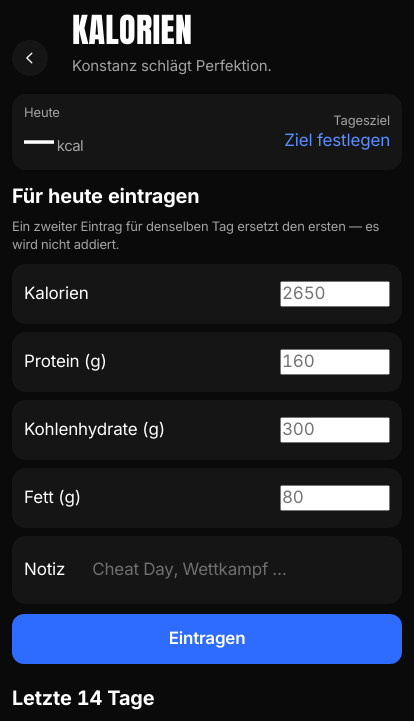
Kalorien — Tagesziel › schickt ein leeres Feld ohne bestehendes Ziel gar nicht erst ab
Click the button "Tagesziel Ziel festlegen" at x=331, y=132, box [272,108,390,156]
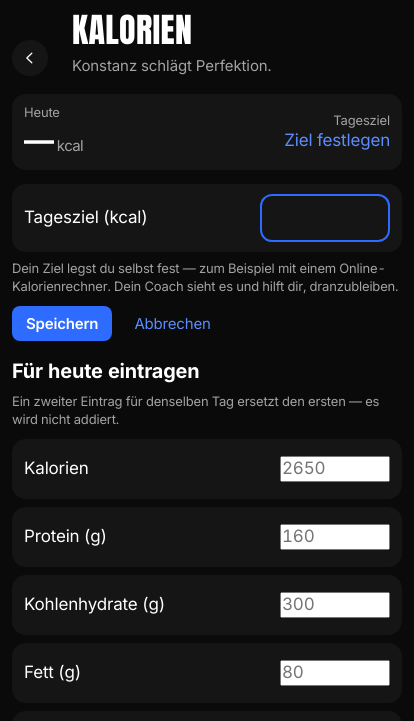
Click the button "Speichern" at x=62, y=324, box [12,306,112,341]
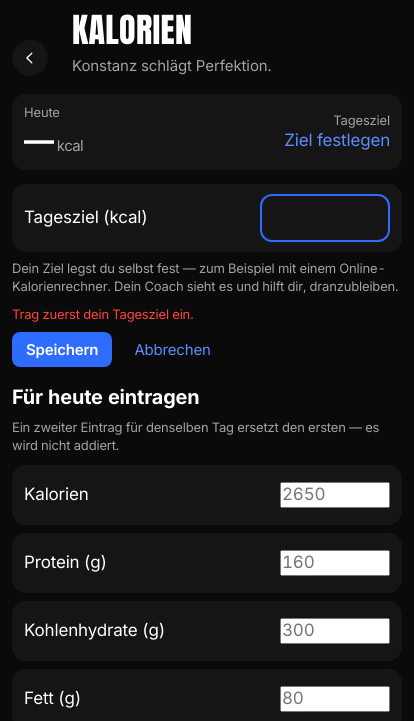
Check: the text "Trag zuerst dein Tagesziel ein." is shown, box [12,306,194,322]
